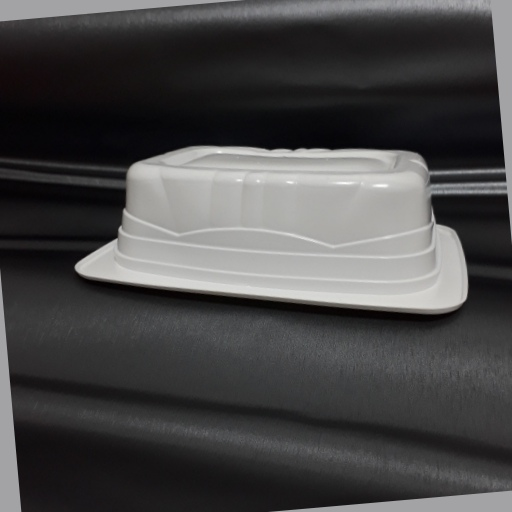Plastic_4: (66, 142, 471, 316)
